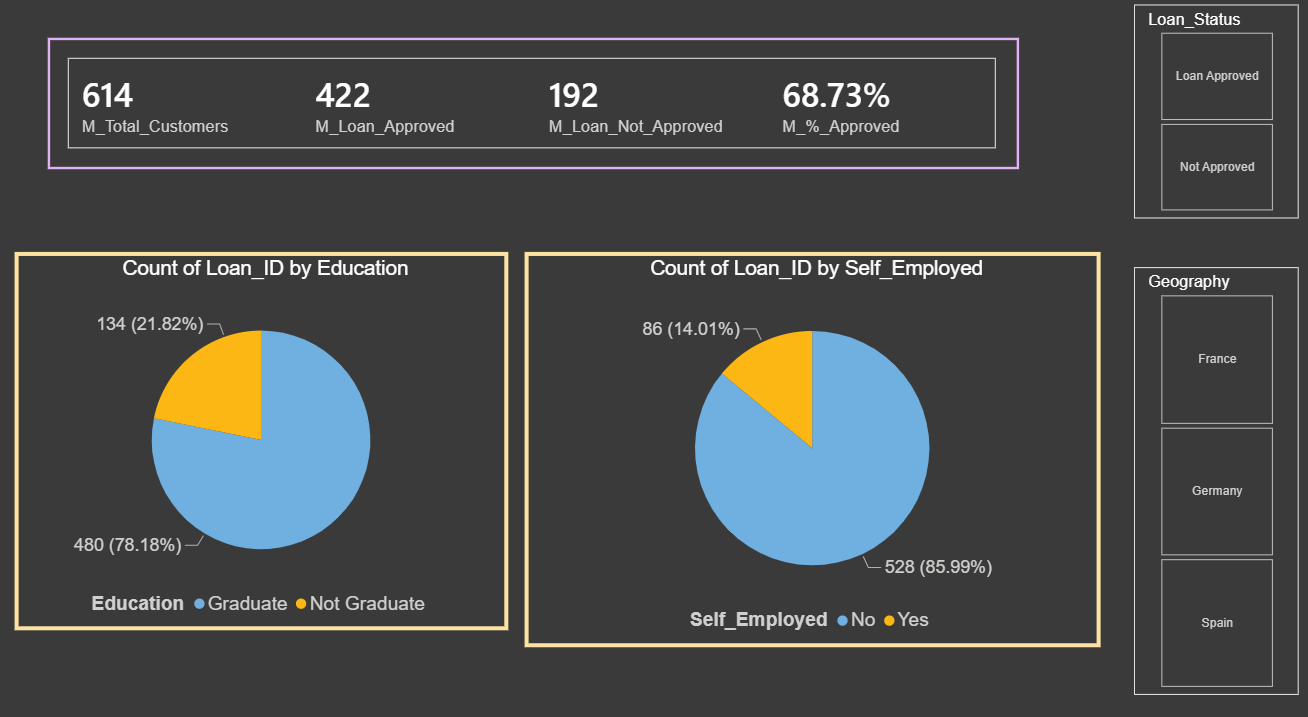

The dashboard page shown, as its layout file describes it:
{"tool":"powerbi","page":{"name":"Education & Self-Employment Breakdown","canvas":[1280,720],"ordinal":5},"visuals":[{"type":"pieChart","fields":{"Category":["LoanData.Education"],"Y":["CountNonNull(LoanData.Loan_ID)"]},"box":[16,256,480,368],"z":0},{"type":"pieChart","fields":{"Category":["LoanData.Self_Employed"],"Y":["CountNonNull(LoanData.Loan_ID)"]},"box":[512,256,560,384],"z":1},{"type":"cardVisual","fields":{"Data":["LoanData.M_Total_Customers","LoanData.M_Loan_Approved","LoanData.M_Loan_Not_Approved","LoanData.M_%_Approved"]},"box":[48,48,944,128],"z":2},{"type":"slicer","fields":{"Values":["LoanData.Loan_Status"]},"box":[1104,16,160,208],"z":3},{"type":"slicer","fields":{"Values":["LoanData.Geography"]},"box":[1104,272,160,416],"z":4}]}

Visuals, with their boxes in screenshot pixels (x1, y1, x2, y2), scaled from the page's 1280x720 canvas onto the 1308x717 screenshot:
pieChart - LoanData.Education x CountNonNull(LoanData.Loan_ID): [left=16, top=255, right=507, bottom=621]
pieChart - LoanData.Self_Employed x CountNonNull(LoanData.Loan_ID): [left=523, top=255, right=1095, bottom=637]
cardVisual - LoanData.M_Total_Customers x LoanData.M_Loan_Approved: [left=49, top=48, right=1014, bottom=175]
slicer - LoanData.Loan_Status: [left=1128, top=16, right=1292, bottom=223]
slicer - LoanData.Geography: [left=1128, top=271, right=1292, bottom=685]
